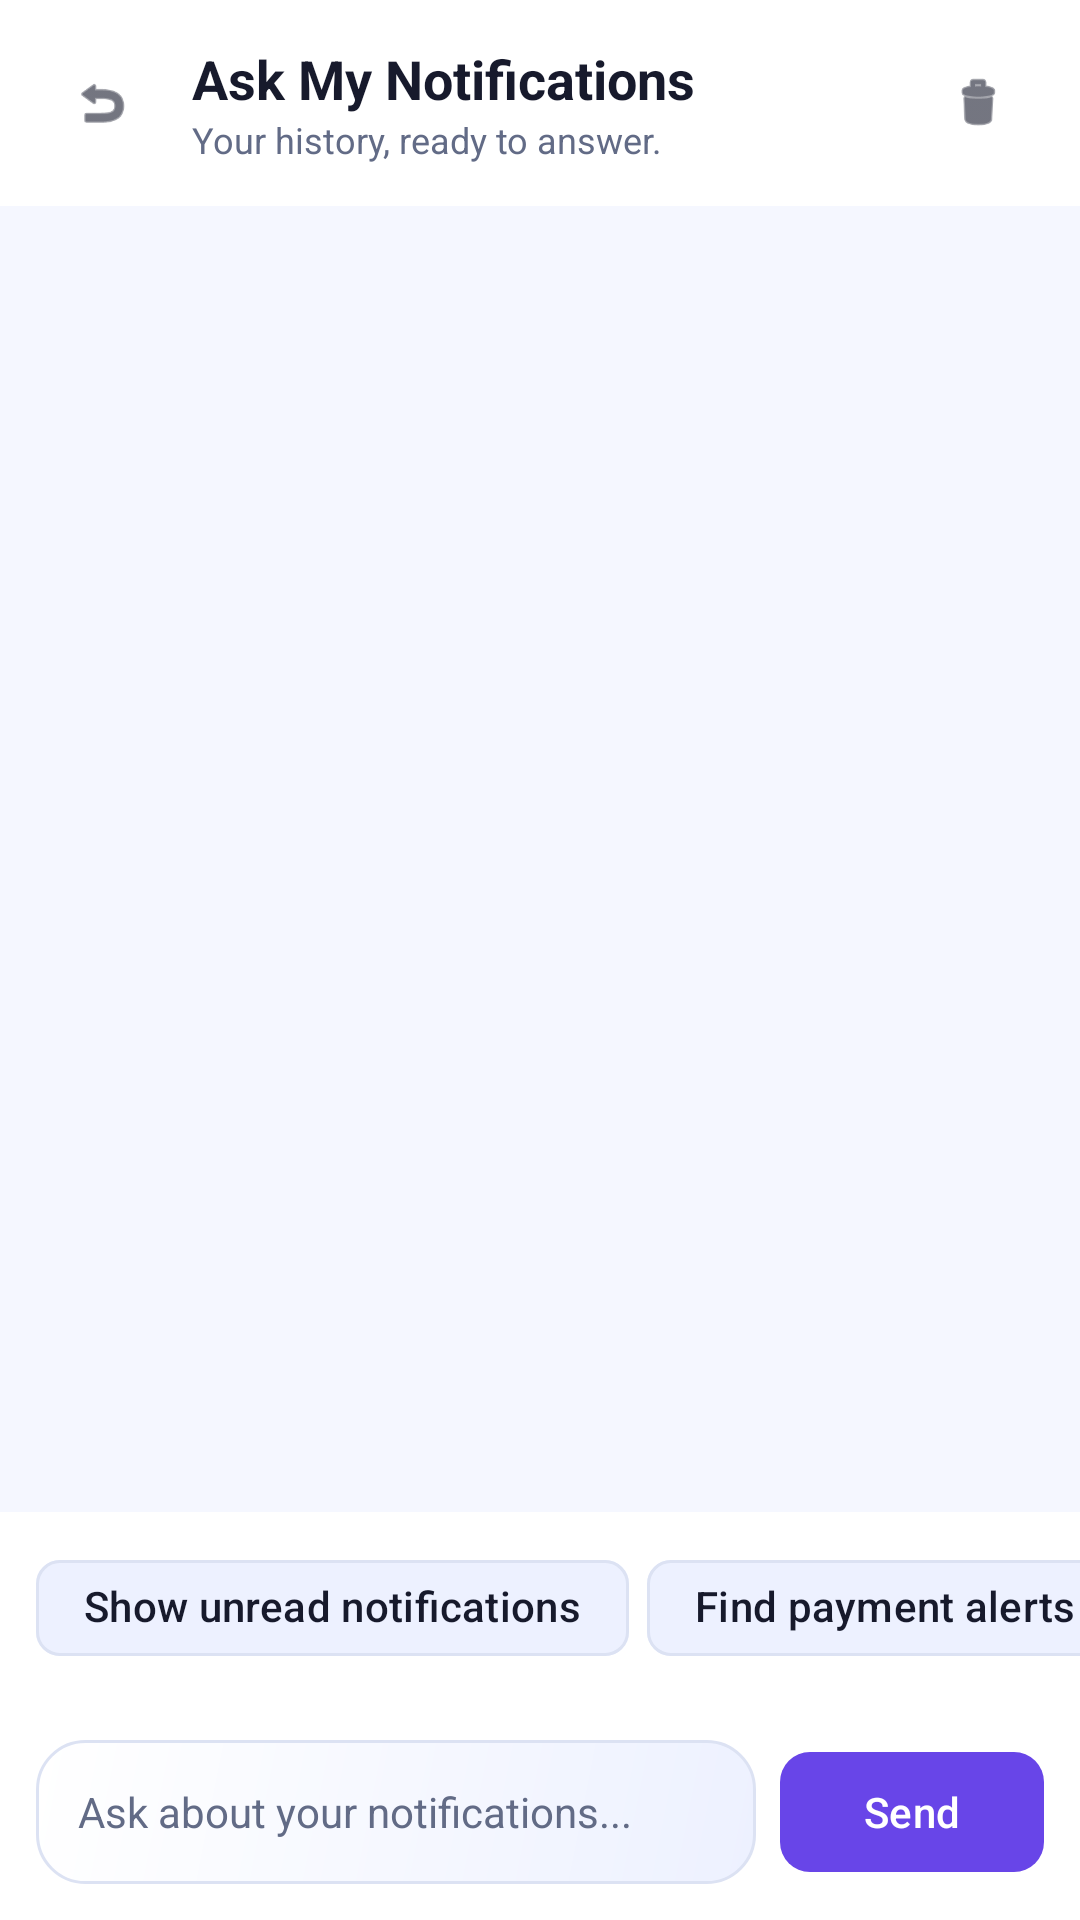

Where icons sit on this 1080 x 1920 app screen, as (x1, y1, x2, y2):
Clear Chat: (961, 79, 995, 126)
revert: (81, 84, 124, 123)
